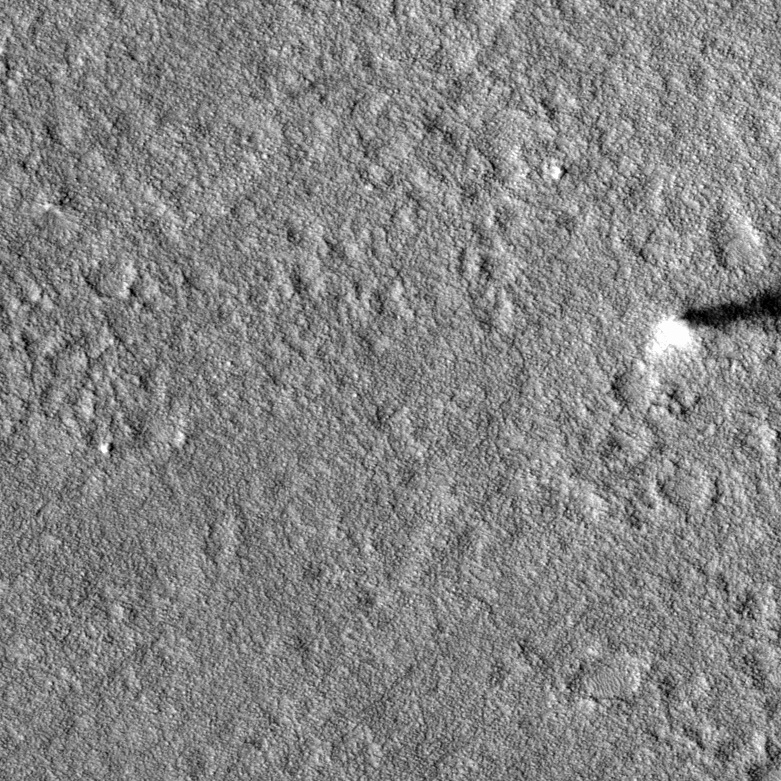dust_devil: (648, 286, 781, 357)
